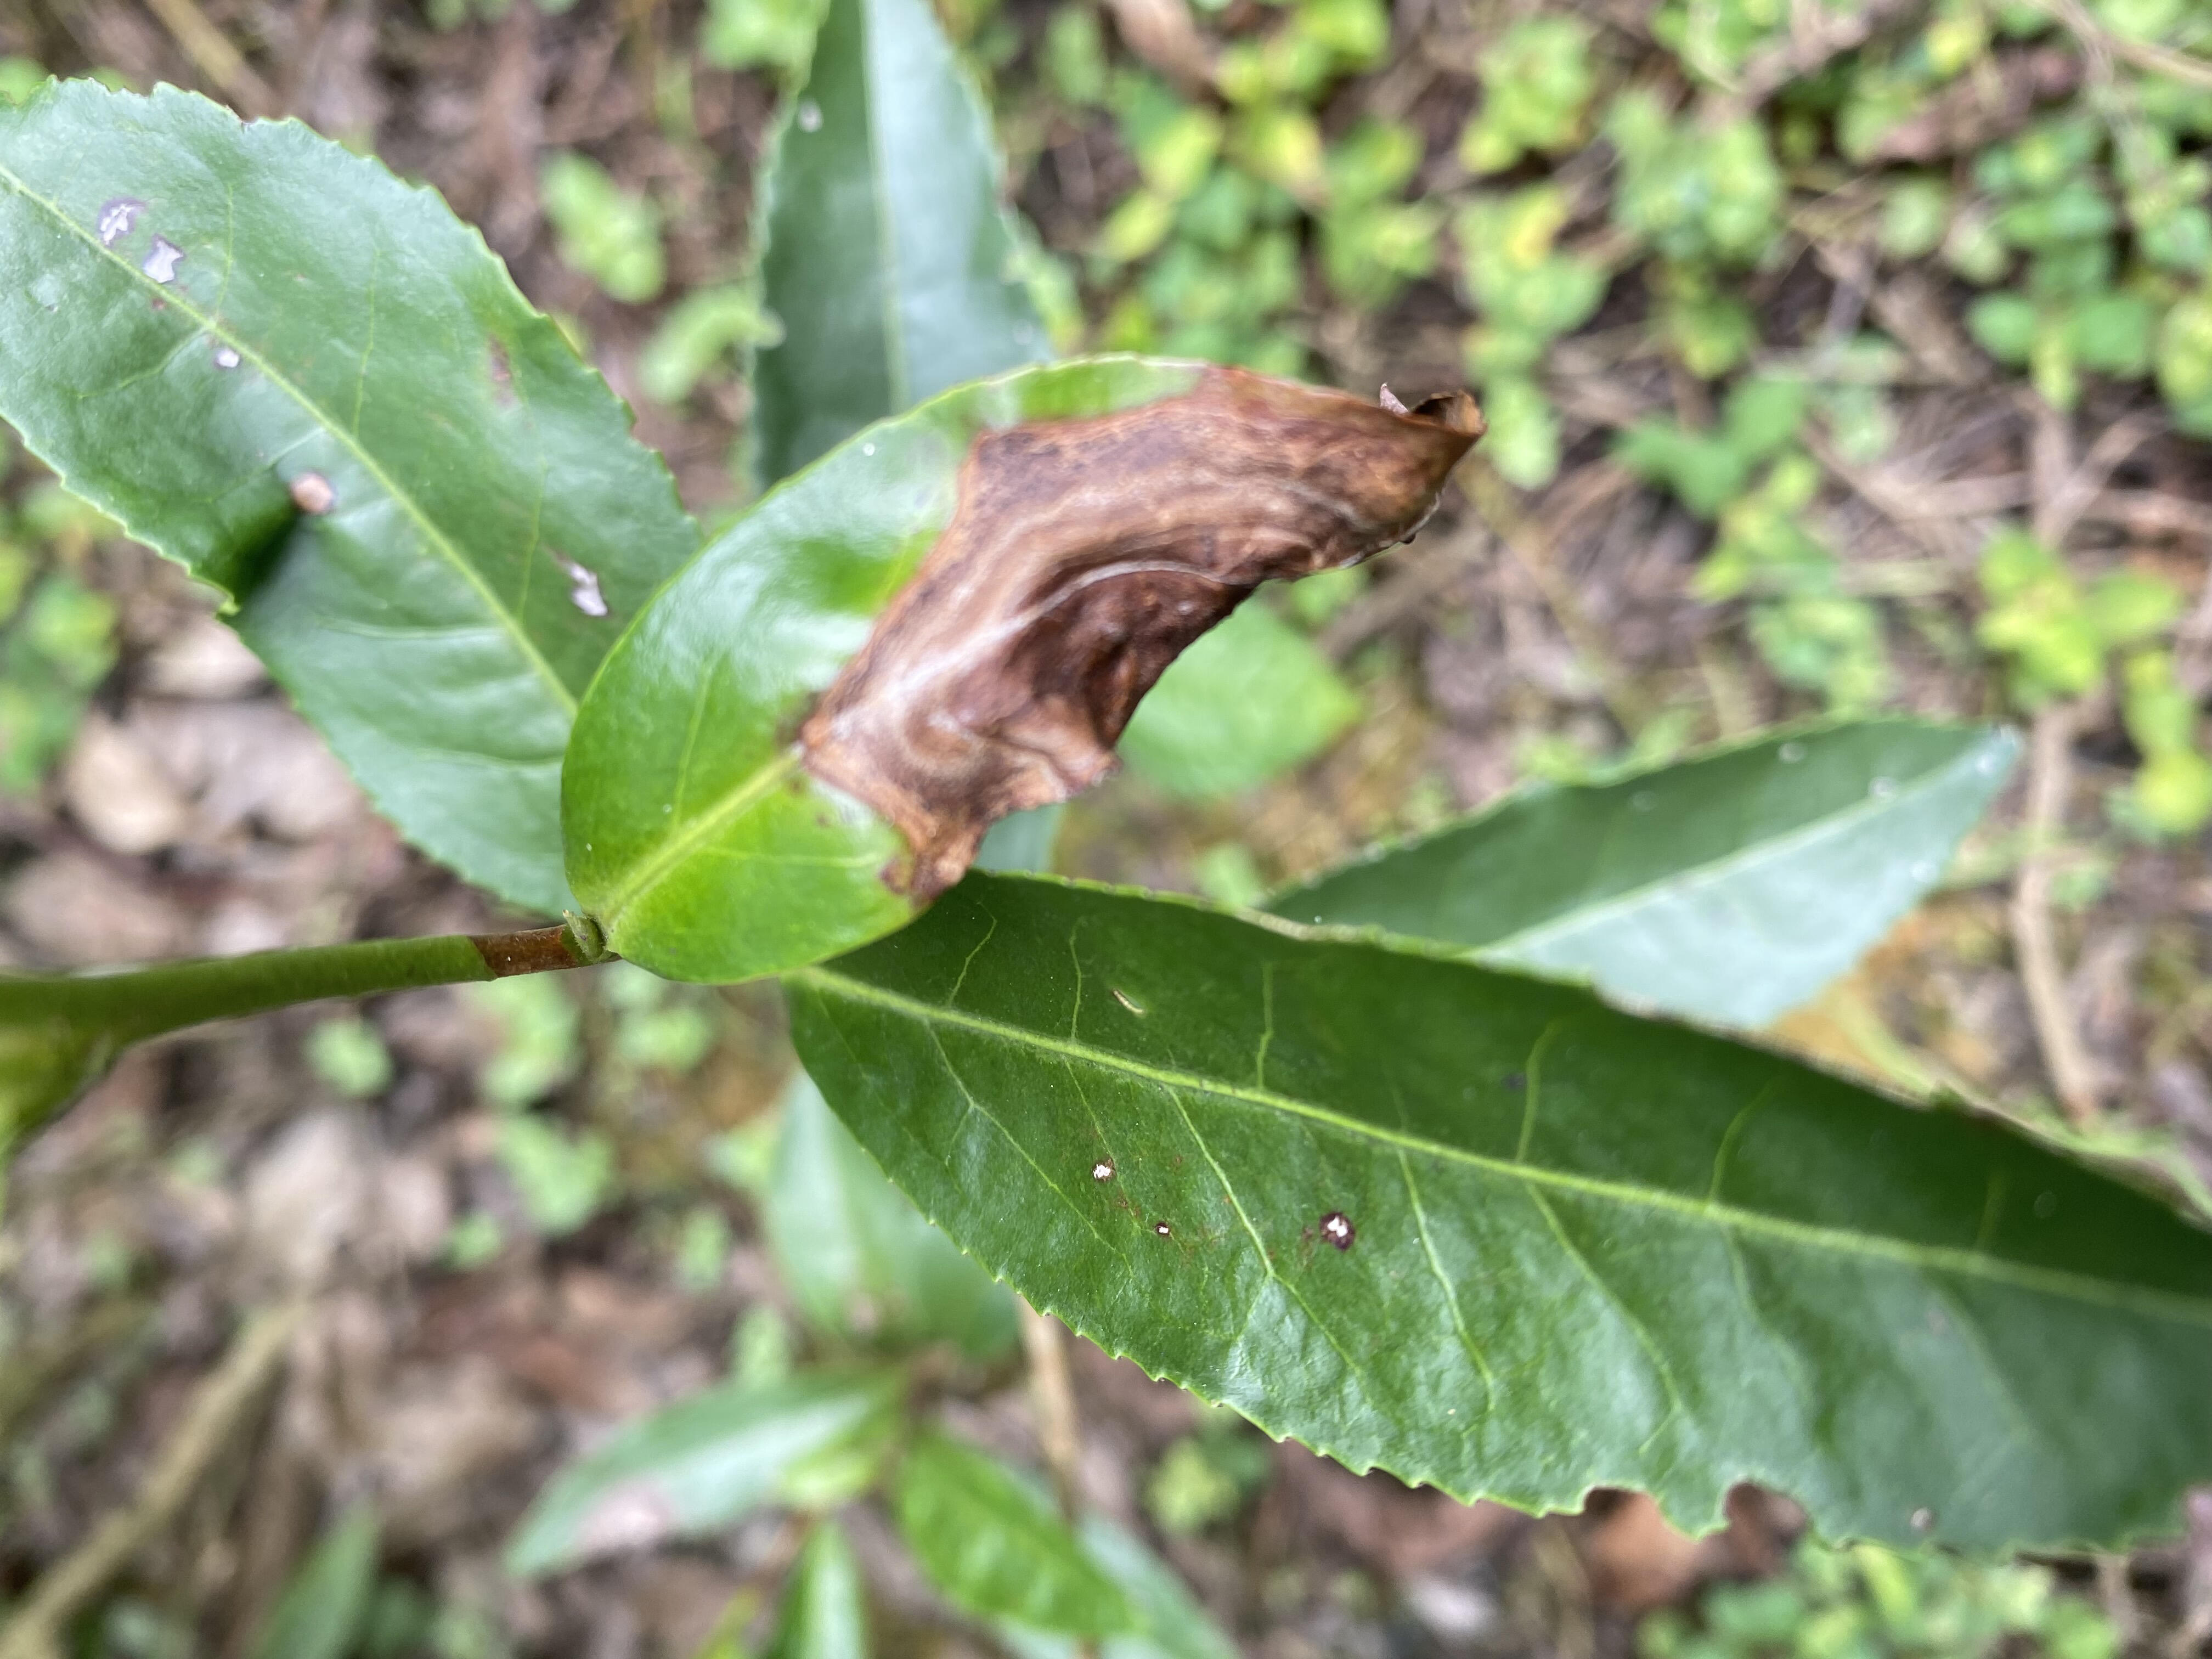tanju_high: (557, 352, 1489, 986)
tanju_low: (2, 71, 705, 925)
